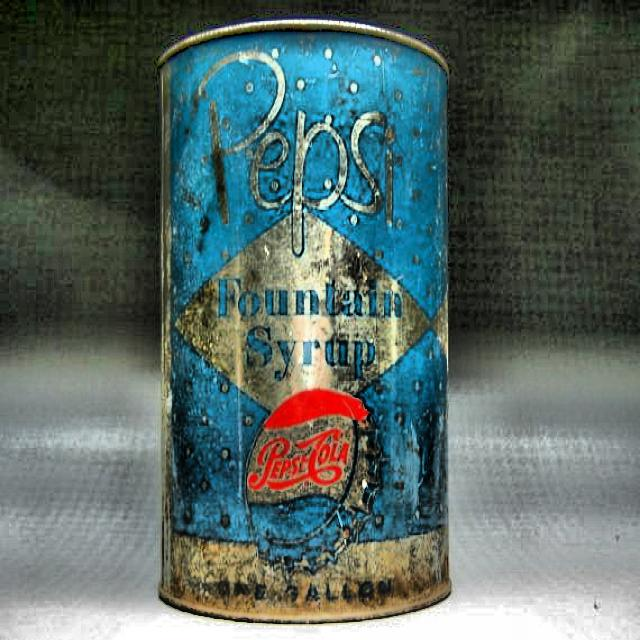Cans: (140, 10, 458, 623)
